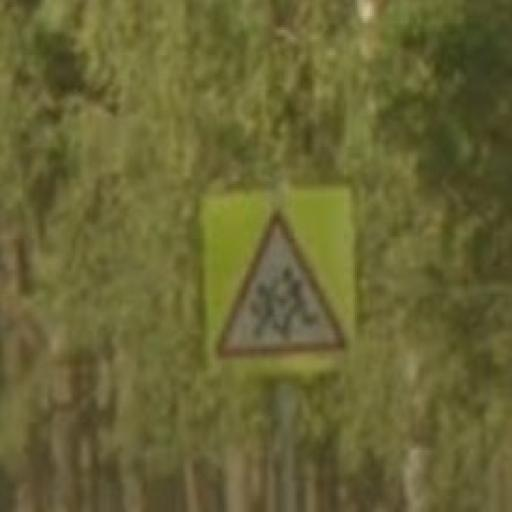traffic_sign: (212, 203, 352, 359)
